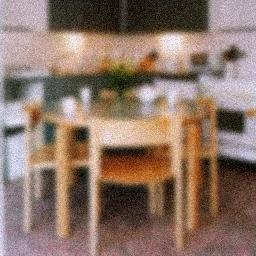Electrodomestico: (202, 83, 254, 164)
